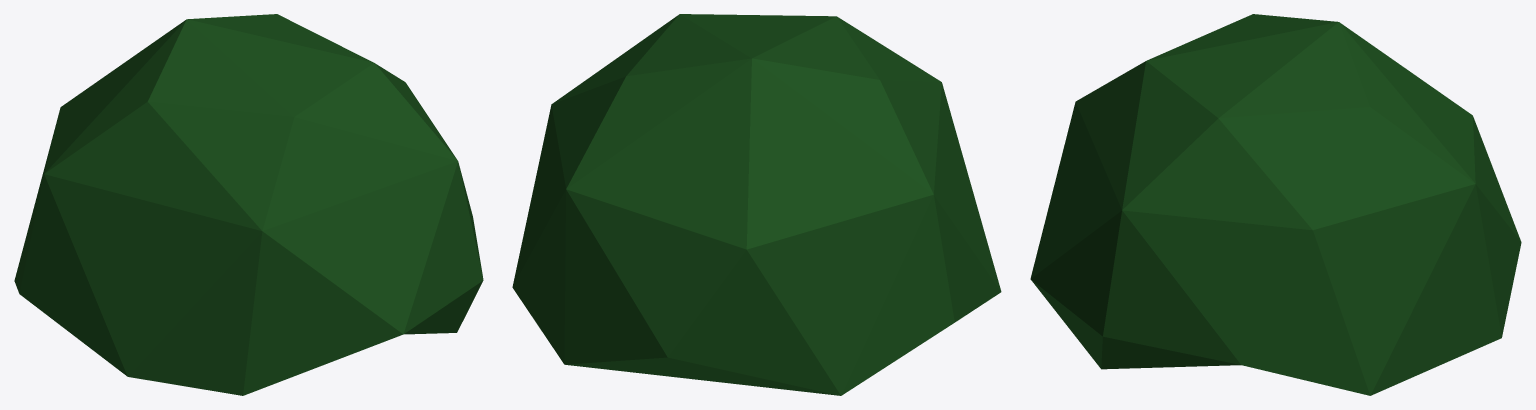
Rendered from Bush.glb.
3 renders of one model, left to right at view 1: azimuth 30°, elevation 25°; view 2: azimuth 150°, elevation 25°; view 3: azimuth 270°, elevation 25°, orthographic. The views are drawn at different scales.
Visible parts, largest first — view 1: Bush; view 2: Bush; view 3: Bush.
Part boxes in pixels (x1,y1,x2,y2): Bush: (14,14,483,395); Bush: (512,14,1001,395); Bush: (1030,14,1521,395).
Bounding box in the file's own units: 0.5943 × 0.3598 × 0.5909.
